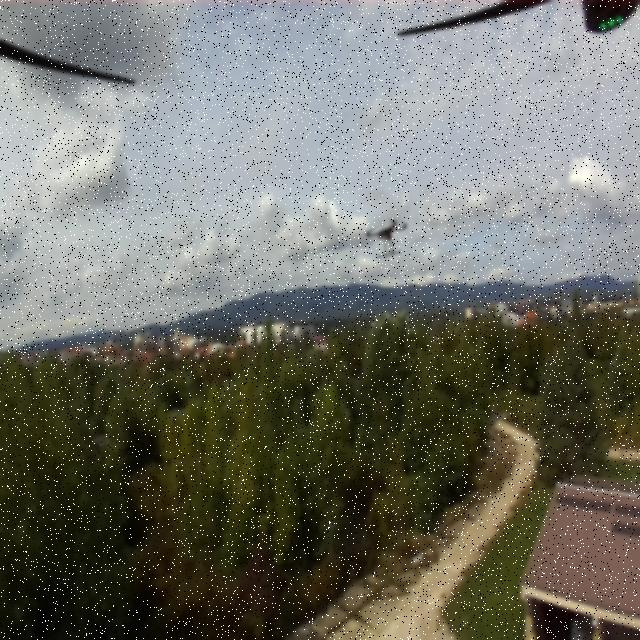UAV: (354, 212, 414, 264)
